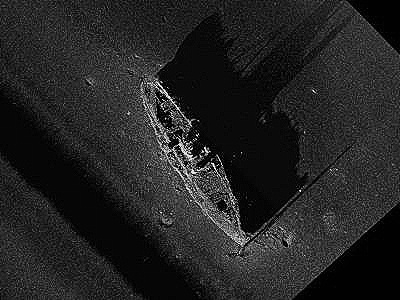ship: (139, 76, 247, 251)
